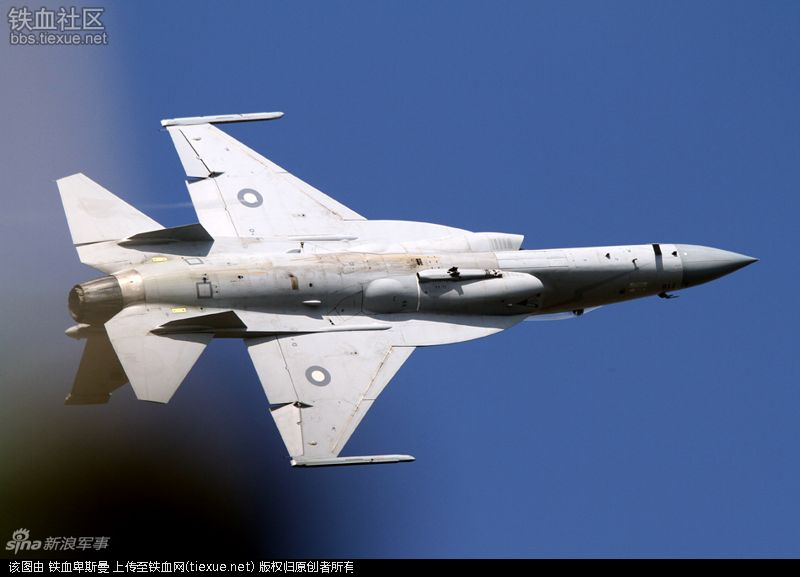airplane: (50, 110, 761, 467)
